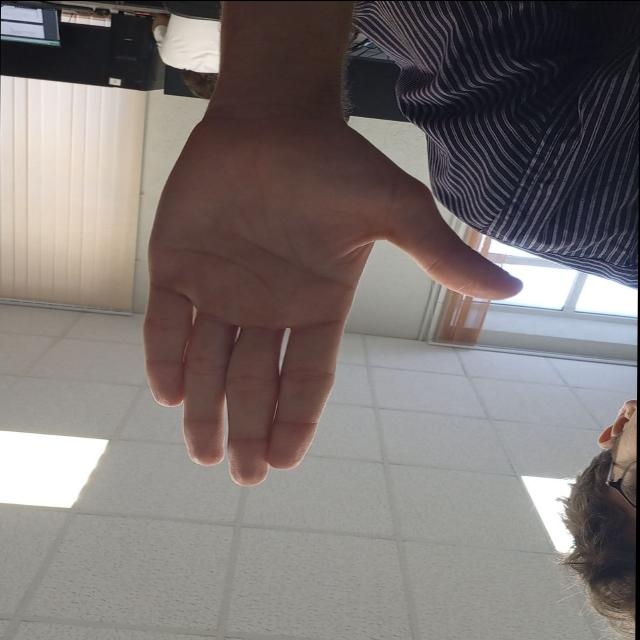v: (119, 146, 537, 512)
